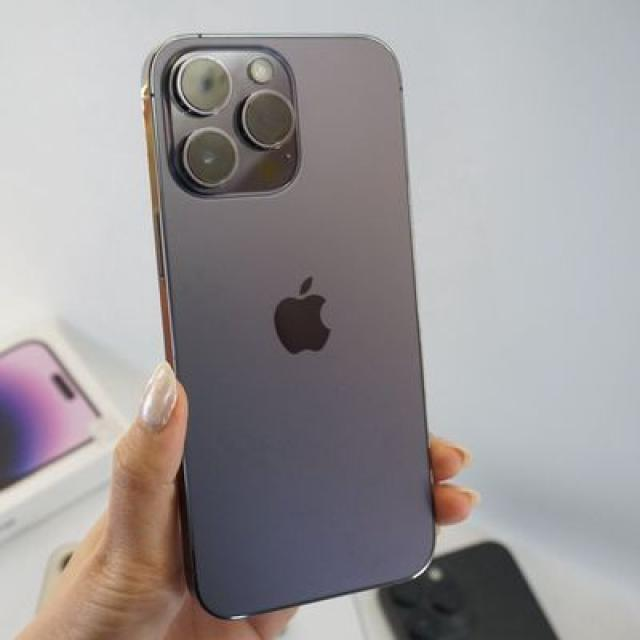gen_14: (134, 17, 439, 621)
